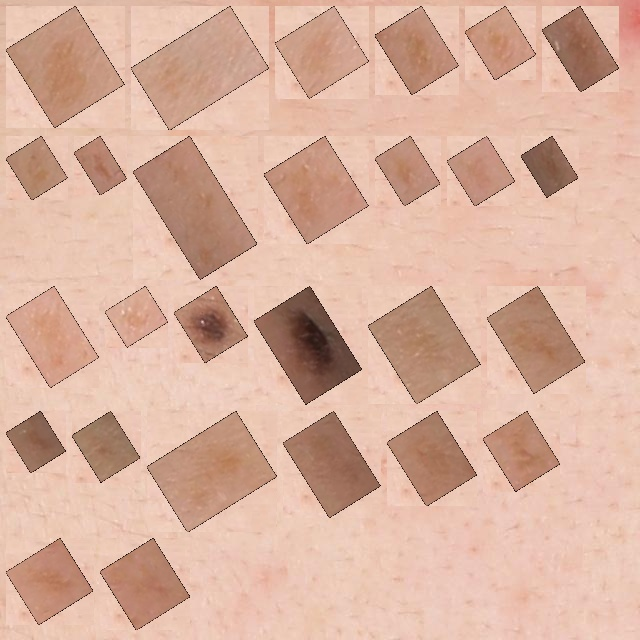melasma: (144, 147, 246, 268), (142, 17, 258, 119), (158, 422, 266, 521), (17, 17, 113, 116), (379, 297, 469, 393), (275, 147, 357, 233), (498, 297, 574, 382), (294, 422, 369, 506), (17, 297, 88, 376), (286, 17, 358, 87), (398, 422, 466, 495), (111, 549, 179, 619), (17, 549, 82, 613), (386, 17, 448, 83), (553, 17, 608, 81), (494, 422, 549, 480), (476, 17, 525, 69), (83, 422, 129, 471), (458, 147, 504, 195), (386, 147, 429, 195), (17, 147, 57, 189), (116, 297, 157, 336), (17, 422, 55, 462), (532, 147, 567, 186), (85, 147, 116, 184)
nevus: (265, 297, 351, 393), (185, 297, 237, 352)
